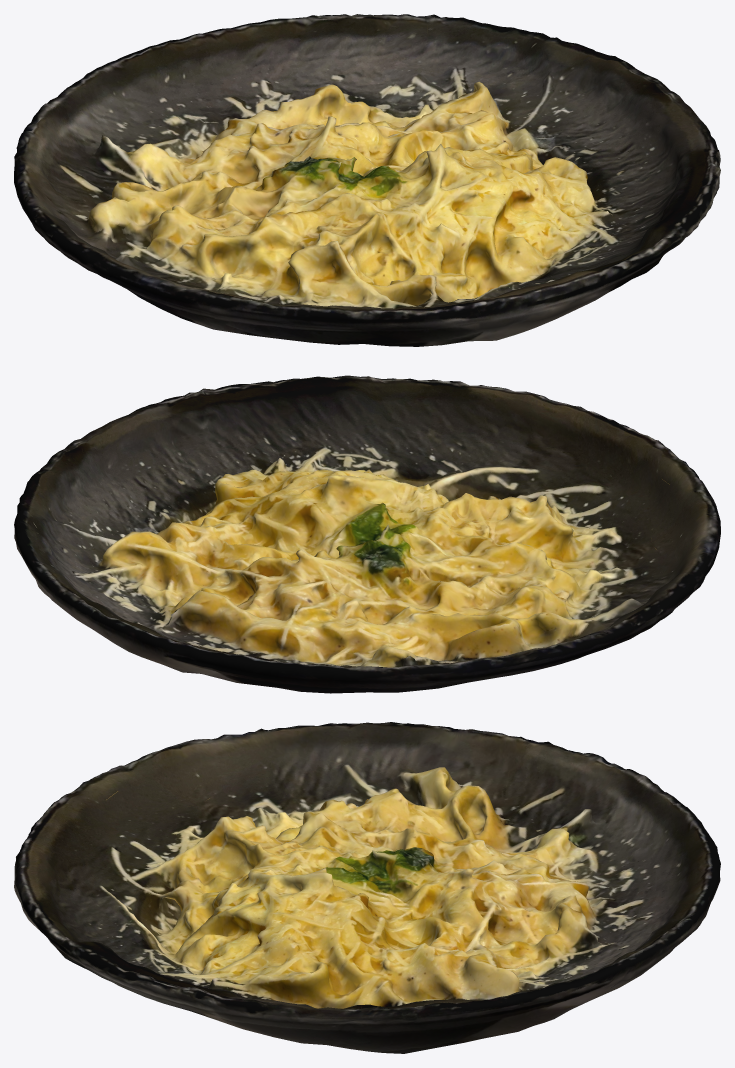
The model's file is Fettuccine Alfredo.glb.
3 views of the same model, one above another, from view 1: azimuth 30°, elevation 25°; view 2: azimuth 150°, elevation 25°; view 3: azimuth 270°, elevation 25° (orthographic).
Visible parts, largest first — view 1: ObjectCapture; view 2: ObjectCapture; view 3: ObjectCapture.
Boxes of the visible parts, box(x1,y1,x2,y2) form: ObjectCapture: box(14, 14, 720, 346); ObjectCapture: box(14, 375, 720, 693); ObjectCapture: box(14, 722, 720, 1053).
Bounding box in the file's own units: 0.2605 × 0.056 × 0.2618.
1 material, 1 textured.
